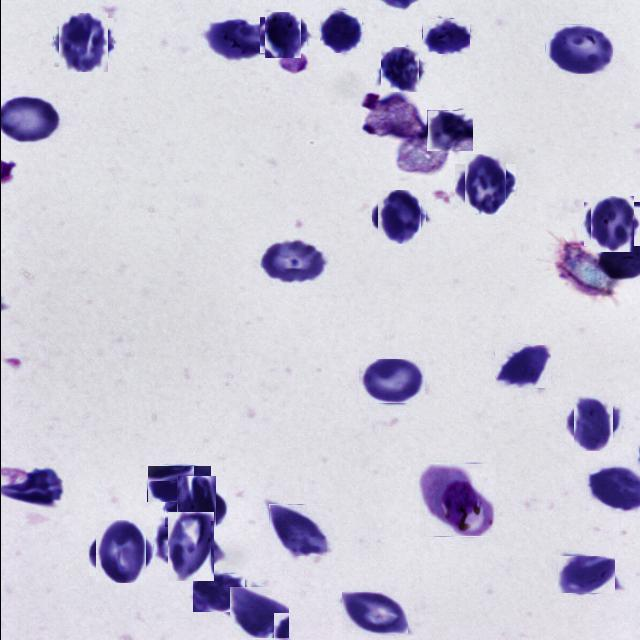difficult: (418, 462, 492, 536)
red blood cell: (258, 238, 329, 286), (544, 24, 612, 74), (160, 518, 218, 576), (92, 522, 149, 580), (228, 586, 288, 638), (268, 504, 326, 556), (56, 15, 110, 70), (358, 359, 424, 403), (341, 592, 407, 634), (459, 159, 510, 211), (204, 17, 264, 61), (170, 482, 221, 533), (586, 200, 636, 250), (494, 344, 550, 388), (373, 192, 422, 242), (146, 465, 210, 502), (569, 400, 617, 448), (557, 556, 614, 593), (192, 574, 244, 612), (318, 9, 361, 53), (426, 110, 472, 151), (378, 48, 420, 90), (262, 14, 304, 56), (421, 18, 469, 54)
